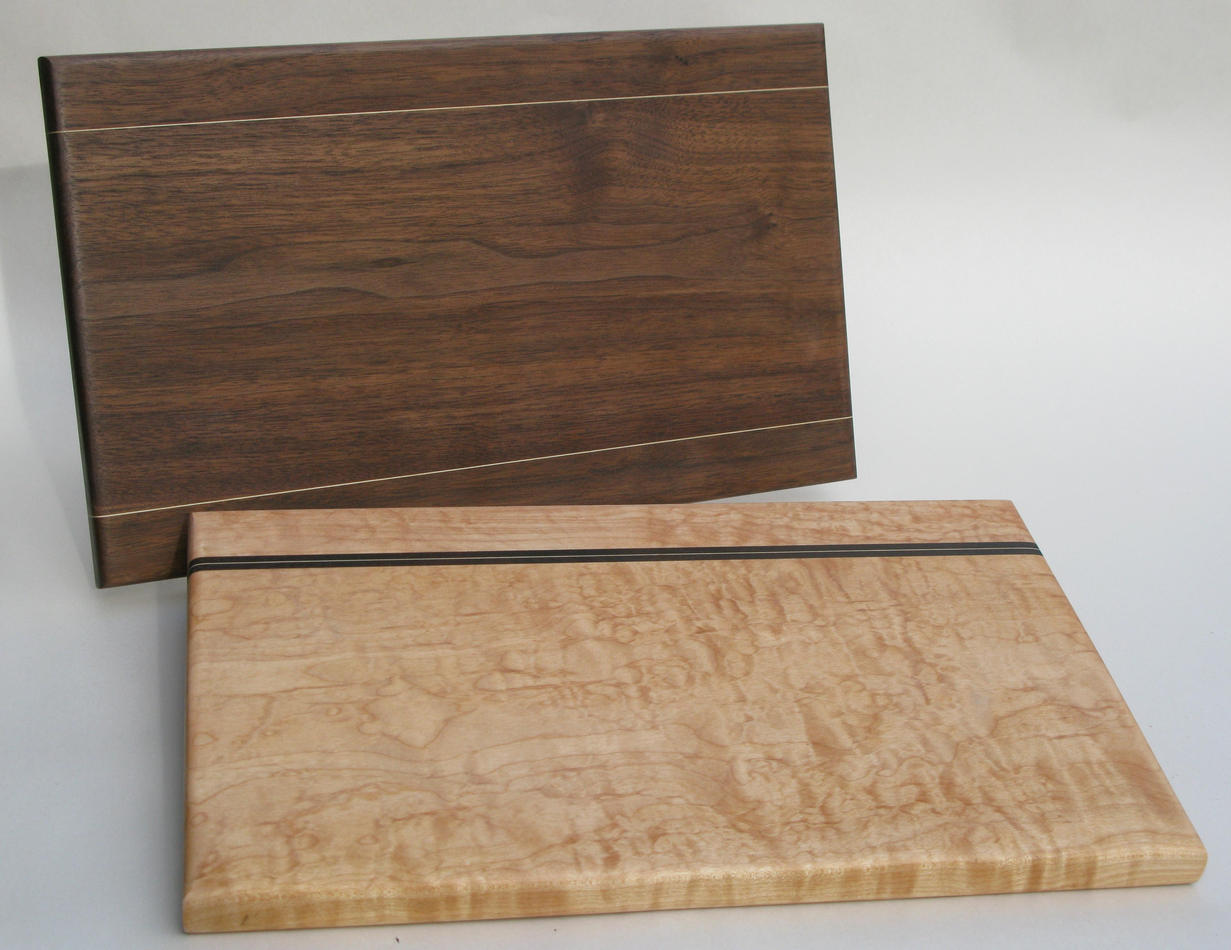gloved_hand: (161, 481, 1217, 924)
